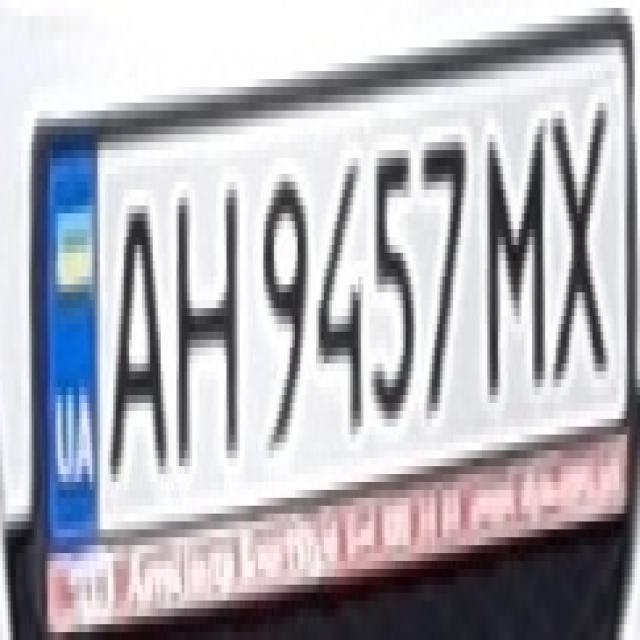4: (308, 142, 366, 427)
5: (361, 126, 416, 419)
7: (414, 118, 466, 411)
9: (250, 150, 306, 450)
A: (102, 174, 168, 482)
H: (166, 158, 242, 458)
M: (477, 95, 550, 395)
X: (545, 86, 611, 380)
